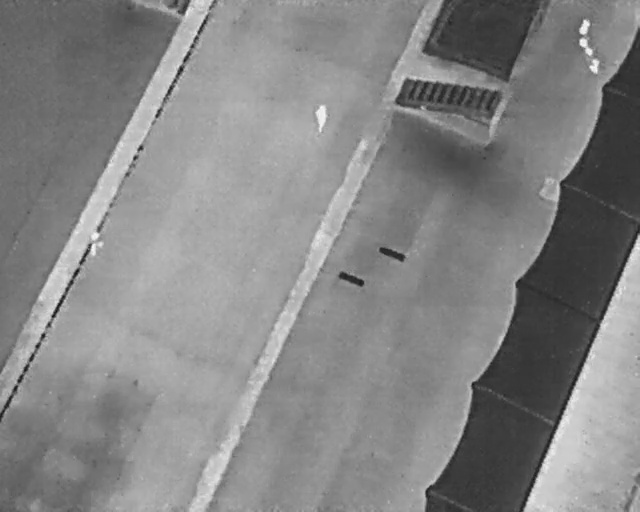Person: (315, 103, 330, 135), (88, 229, 105, 257)
